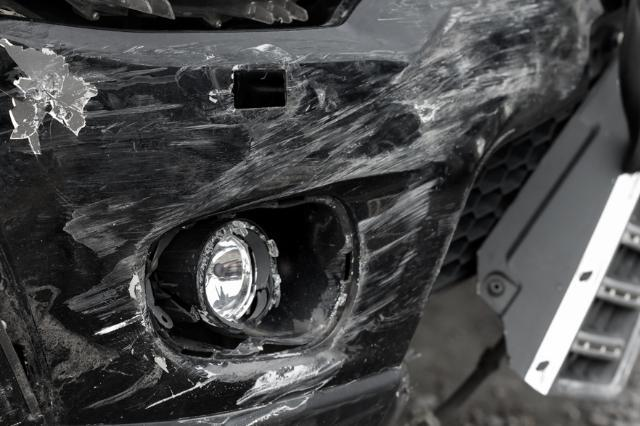Bumper: (1, 4, 552, 426)
